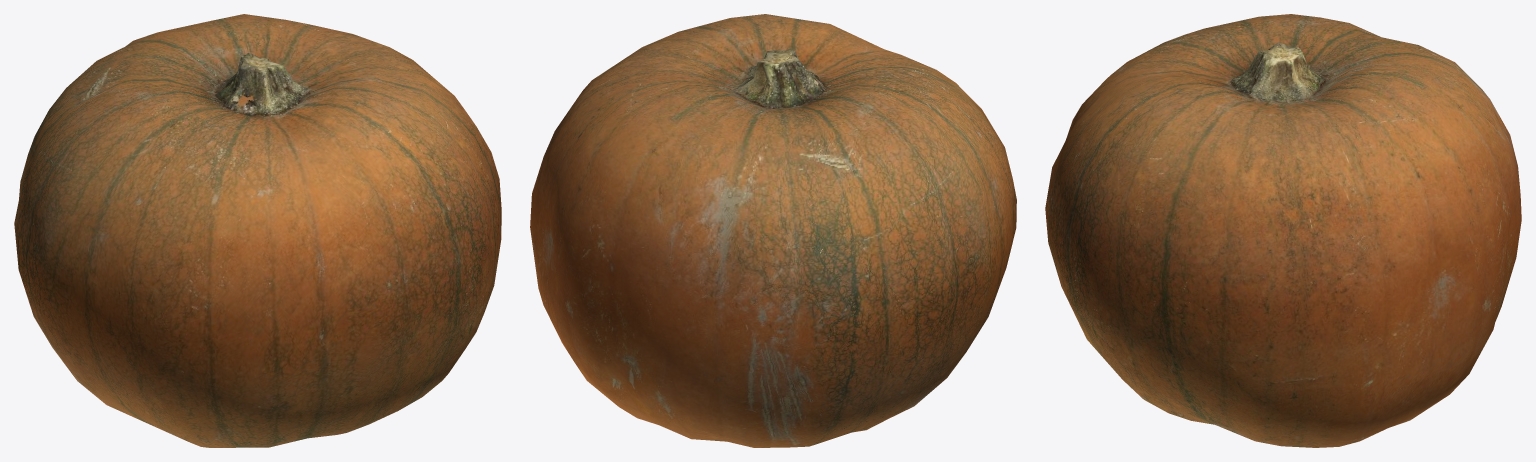
The model's file is pumpkin_c.gltf.
3 renders of one model, left to right at view 1: azimuth 30°, elevation 25°; view 2: azimuth 150°, elevation 25°; view 3: azimuth 270°, elevation 25°, orthographic.
Visible parts, largest first — view 1: pumpkin_c2; view 2: pumpkin_c2; view 3: pumpkin_c2.
Part boxes in pixels (box(x1,y1,x2,y2)): pumpkin_c2: box(14, 14, 501, 447); pumpkin_c2: box(530, 14, 1016, 447); pumpkin_c2: box(1045, 14, 1521, 447).
Size of the model in its own units: 99.81 by 77.48 by 97.07.
1 material, 1 textured.
